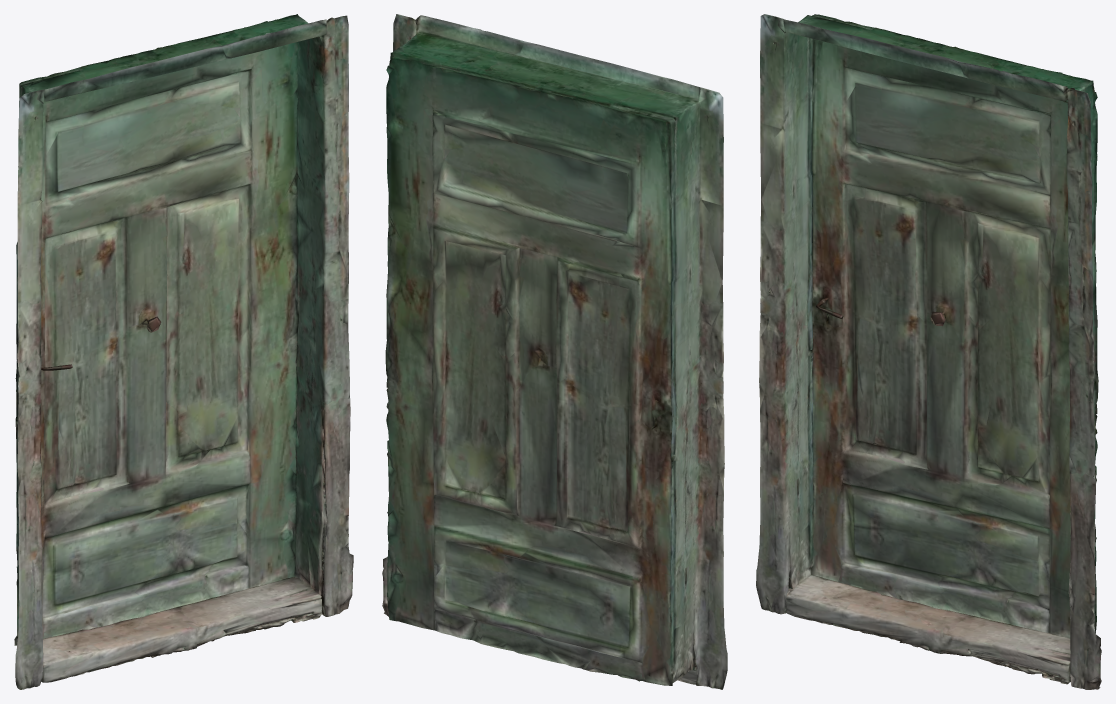
The model's file is greenDoor.glb.
3 renders of one model, left to right at view 1: azimuth 30°, elevation 25°; view 2: azimuth 150°, elevation 25°; view 3: azimuth 330°, elevation 25°, orthographic.
Visible parts, largest first — view 1: door_door1_0; view 2: door_door1_0; view 3: door_door1_0.
Boxes of the visible parts, x1,y1,x2,y2 form: door_door1_0: [14, 14, 353, 689]; door_door1_0: [382, 14, 727, 689]; door_door1_0: [756, 14, 1101, 689].
Bounding box in the file's own units: 1.1 × 1.85 × 0.2021.
1 material, 1 textured.
